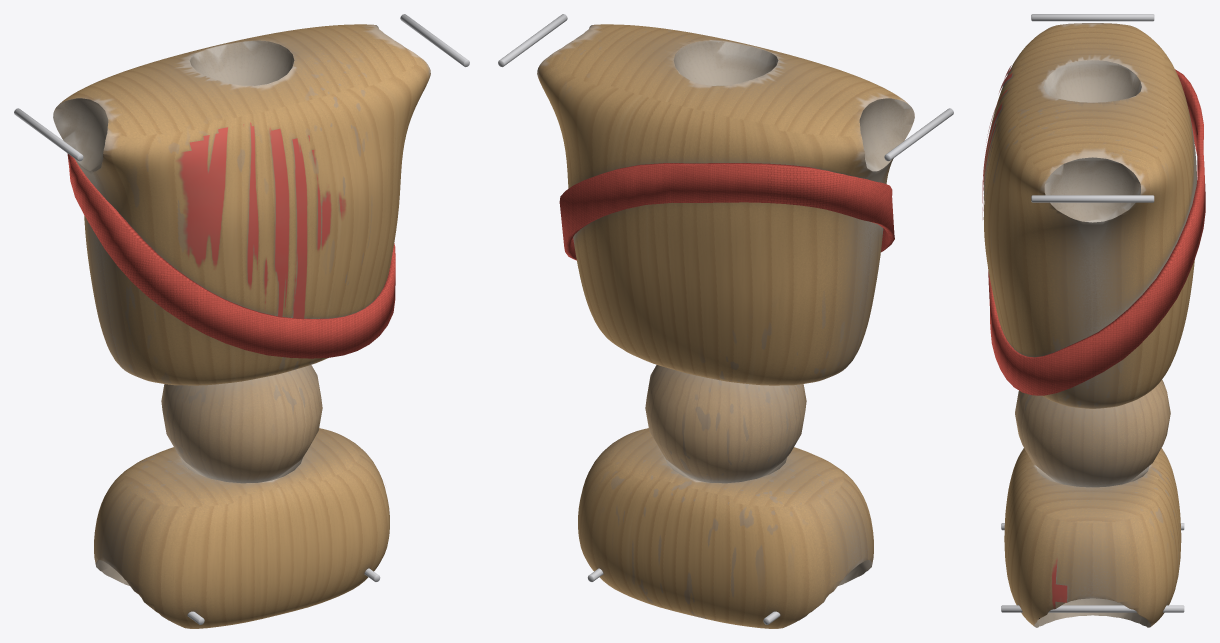
The model's file is Torso.glb.
The picture shows the model from 3 angles, left to right: view 1: azimuth 30°, elevation 25°; view 2: azimuth 150°, elevation 25°; view 3: azimuth 270°, elevation 25°; orthographic projection. The views are drawn at different scales.
Parts seen in each view (by area): view 1: Torso, Torso_Strap, Torso_Paint, Torso_PinS_R, Torso_PinS_L; view 2: Torso, Torso_Strap, Torso_PinS_R, Torso_PinS_L; view 3: Torso, Torso_Strap, Torso_PinS_R, Torso_PinS_L, Torso_PinH_L, Torso_Paint.
Part boxes in pixels (x1,y1,x2,y2): Torso: (53,24,430,628); Torso_Strap: (67,153,395,358); Torso_Paint: (176,122,345,319); Torso_PinS_R: (14,108,83,161); Torso_PinS_L: (400,14,469,67); Torso: (537,24,914,628); Torso_Strap: (559,163,894,260); Torso_PinS_R: (884,108,953,161); Torso_PinS_L: (498,14,567,67); Torso: (983,23,1196,627); Torso_Strap: (988,69,1205,395); Torso_PinS_R: (1031,14,1154,21); Torso_PinS_L: (1031,195,1154,202); Torso_PinH_L: (1001,605,1184,612); Torso_Paint: (982,65,1067,608).
Size of the model in its own units: 0.4476 by 0.5838 by 0.2291.
4 materials, 3 textured.
